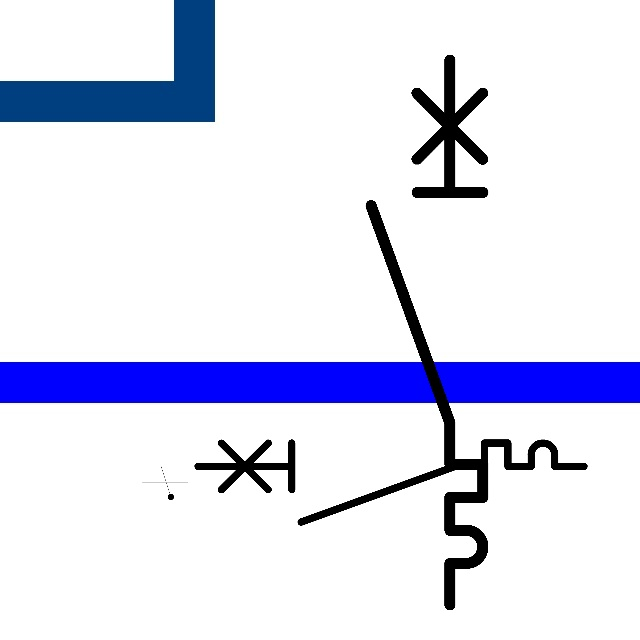interruptor_termomagnetico: (357, 46, 497, 619), (187, 433, 593, 532)
